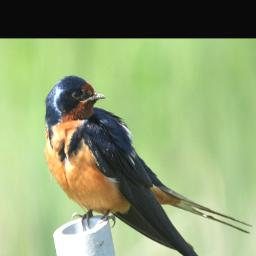Swallow: (42, 71, 252, 256)
